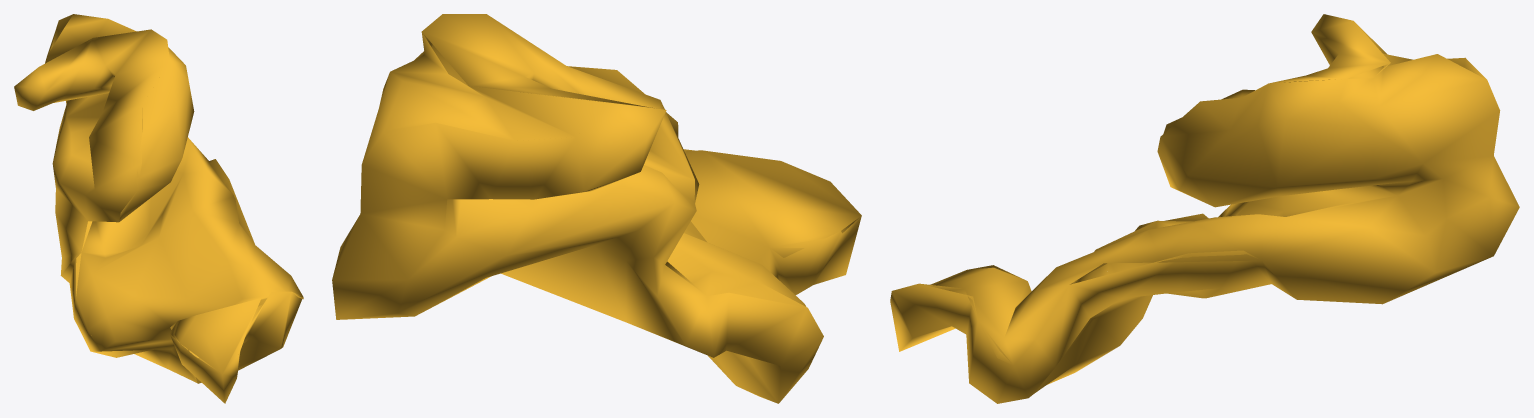
Rendered from nervoso-temporal-plane-l.glb.
3 renders of one model, left to right at view 1: azimuth 30°, elevation 25°; view 2: azimuth 150°, elevation 25°; view 3: azimuth 270°, elevation 25°, orthographic. The views are drawn at different scales.
Visible parts, largest first — view 1: Temporal plane.l; view 2: Temporal plane.l; view 3: Temporal plane.l.
Boxes of the visible parts, x1,y1,x2,y2 form: Temporal plane.l: (14, 14, 303, 403); Temporal plane.l: (332, 14, 861, 403); Temporal plane.l: (890, 14, 1519, 403).
Bounding box in the file's own units: 0.0206 × 0.0271 × 0.0438.
